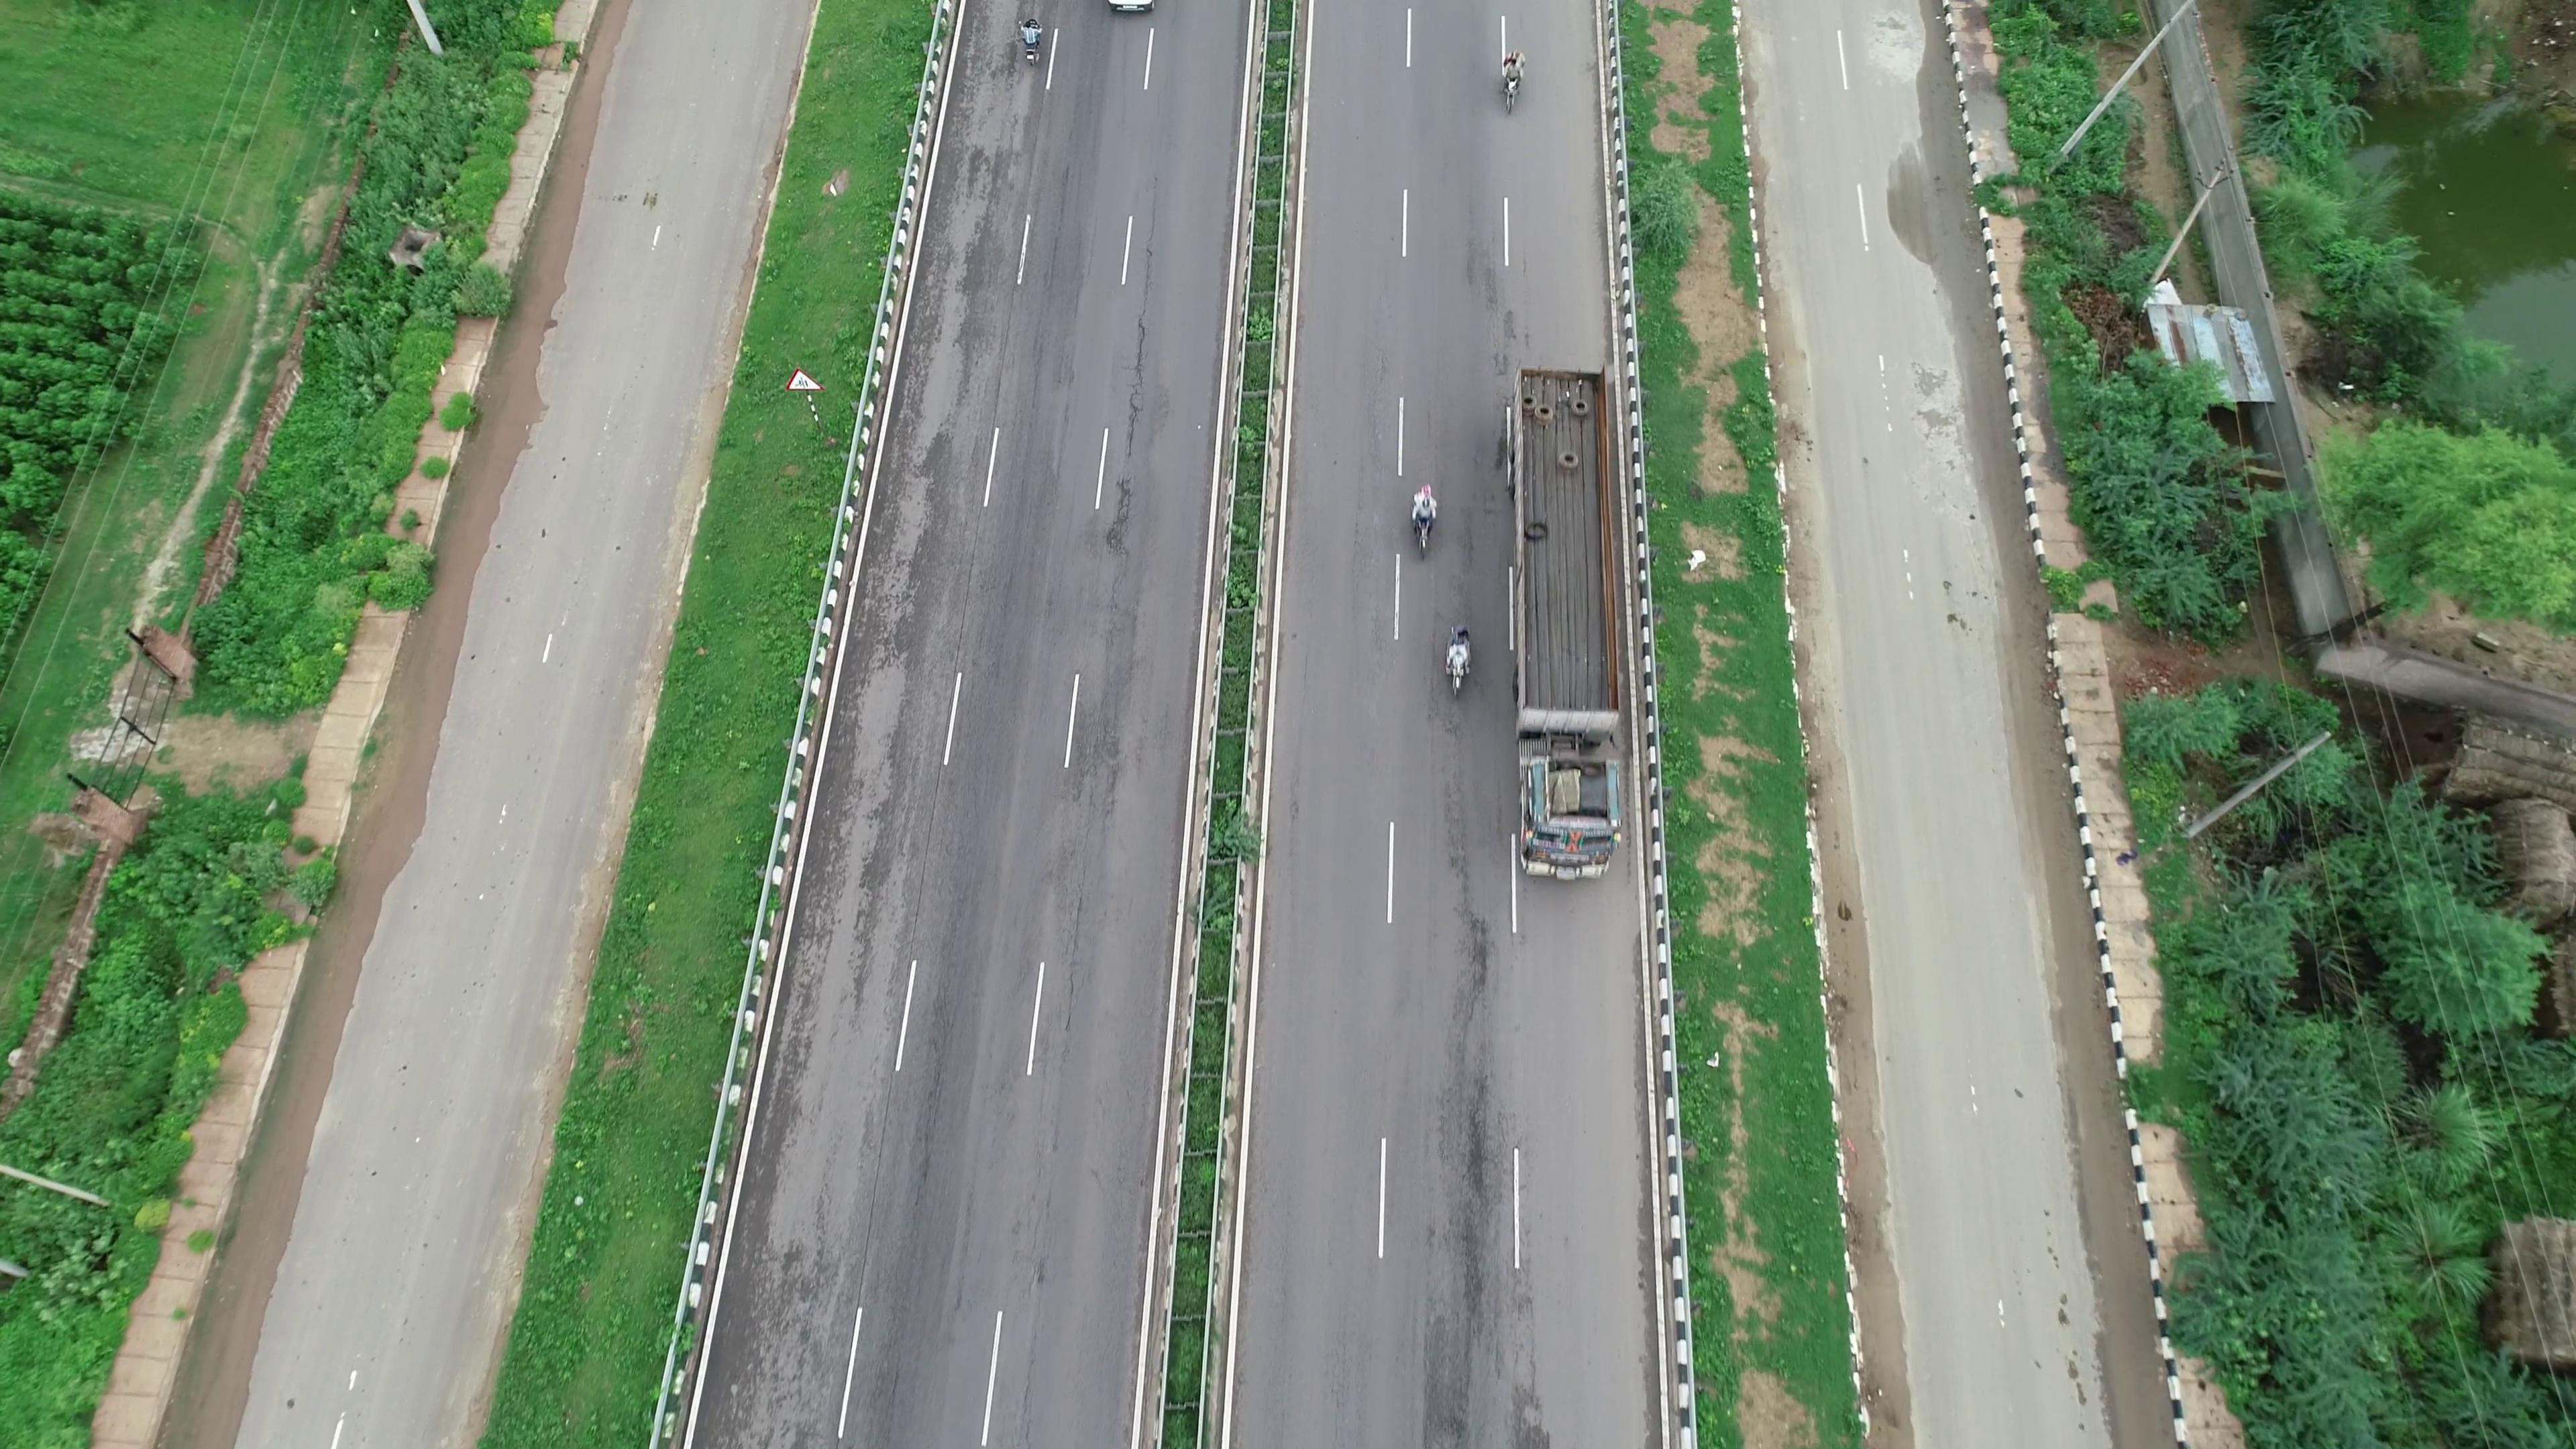Longitudinal_cracks: (1088, 239, 1162, 561)
Ravelling: (1424, 915, 1511, 1424), (839, 715, 934, 1007), (872, 446, 962, 702), (922, 180, 1007, 396)
